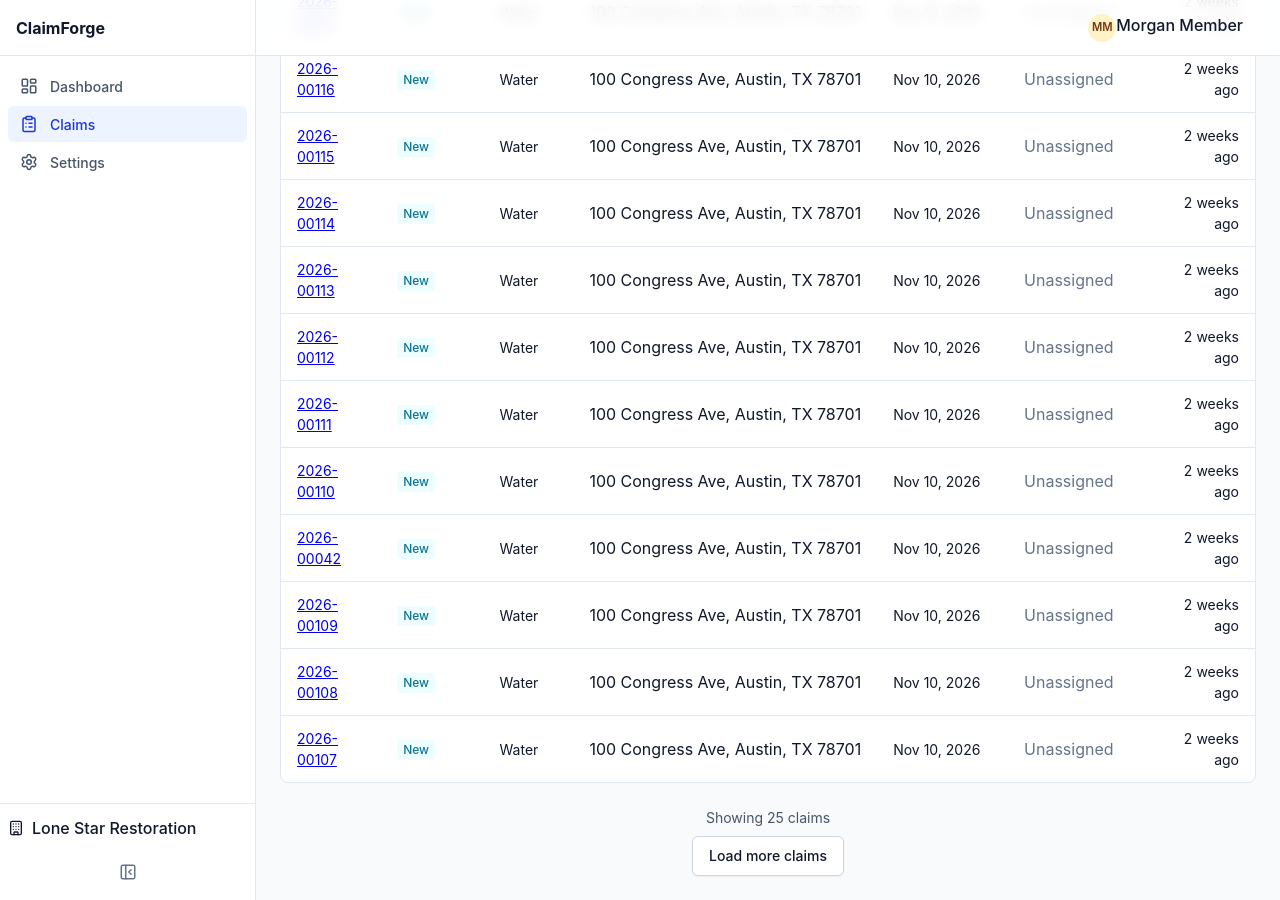
Test: sorting and paging › Load more adds the next page, until everything is in
(page scrolled)
Expected: the text "Showing 25 claims" is shown, 706,807 -> 830,828
Step 1. Click the button "Load more claims" → (768, 856), box 692,836 -> 844,876
(page scrolled)
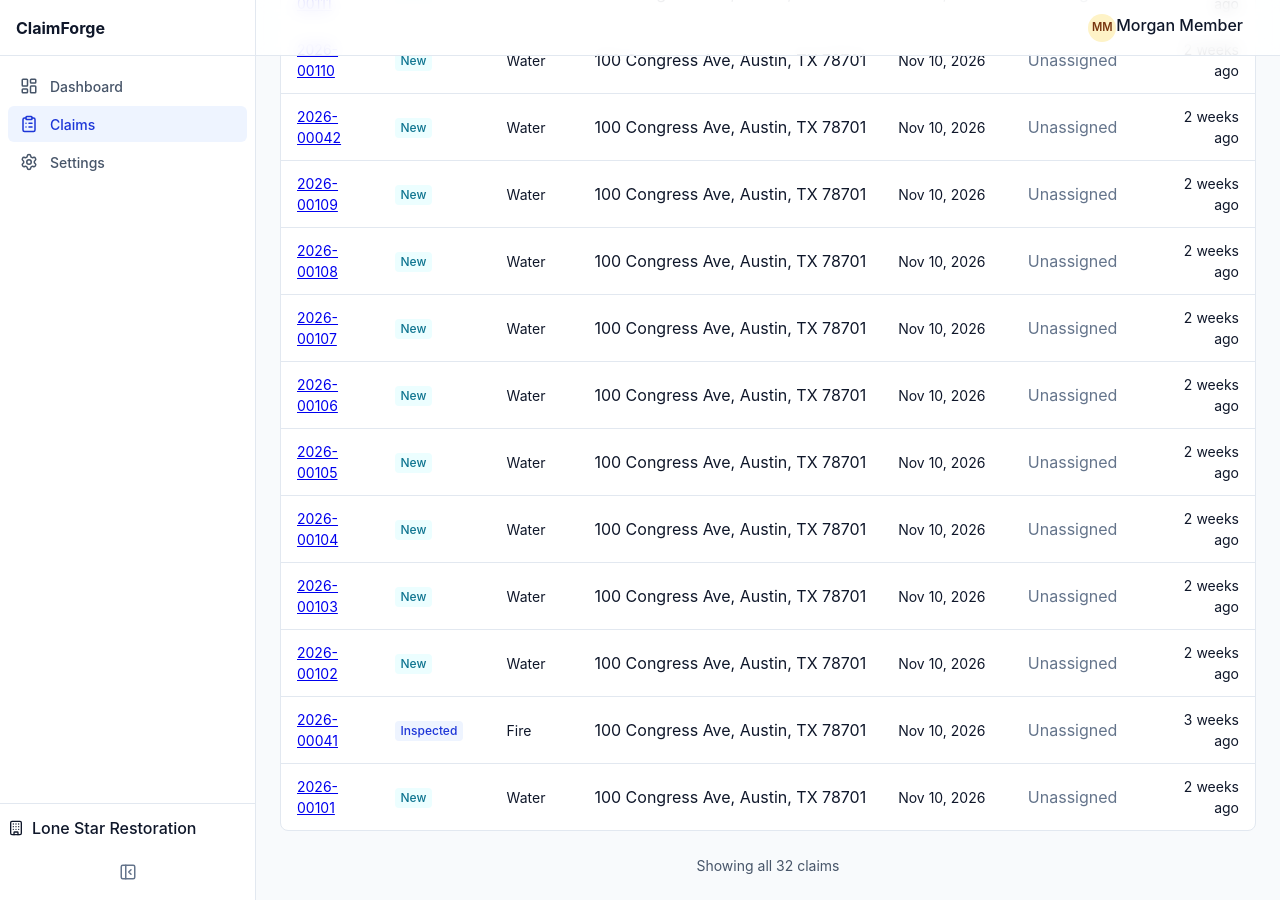
Result: the text "Showing all 32 claims" is shown at 696,855 -> 840,876
Result: the button "Load more claims" is gone
